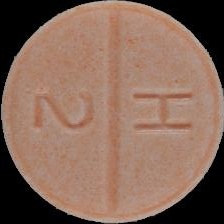66267-106: (0, 0, 224, 224)
